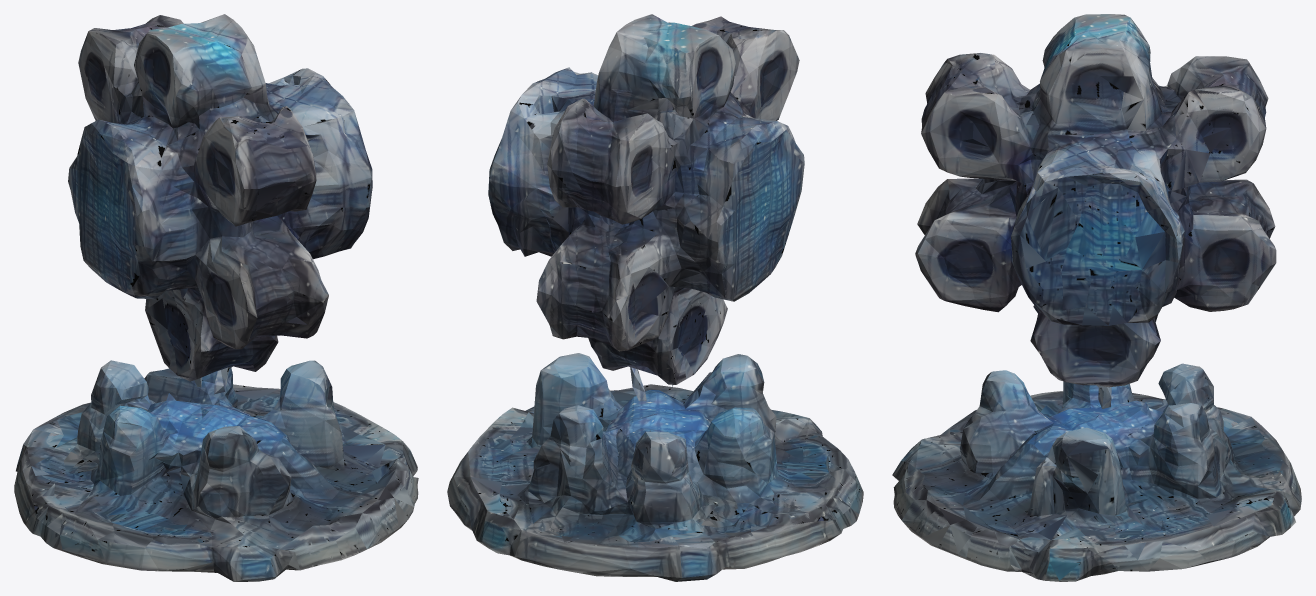
The model's file is tower_9.glb.
3 views of the same model, side by side, from view 1: azimuth 30°, elevation 25°; view 2: azimuth 150°, elevation 25°; view 3: azimuth 270°, elevation 25° (orthographic).
Parts seen in each view (by area): view 1: test (2); view 2: test (2); view 3: test (2).
Boxes of the visible parts, x1,y1,x2,y2 form: test (2): (14, 14, 418, 581); test (2): (447, 14, 863, 581); test (2): (892, 14, 1301, 581).
Bounding box in the file's own units: 2.98 × 3.72 × 2.97.
Materials: 1 (1 with a texture image).
